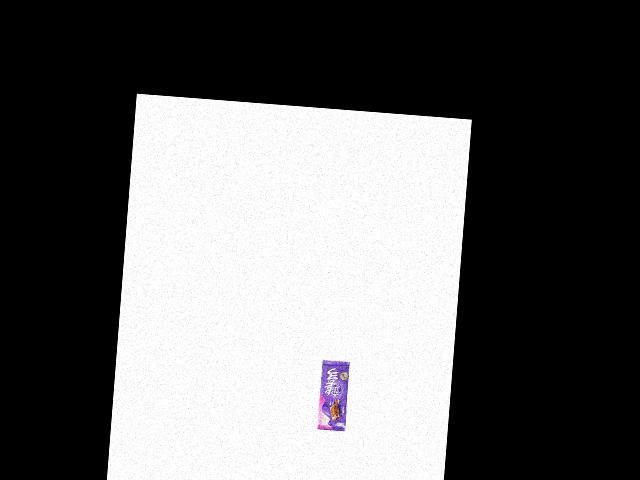chocolate: (316, 359, 351, 431)
